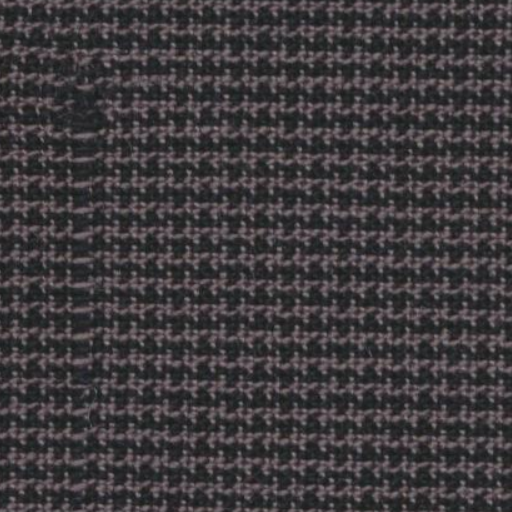DaiSha: (57, 42, 118, 399)
